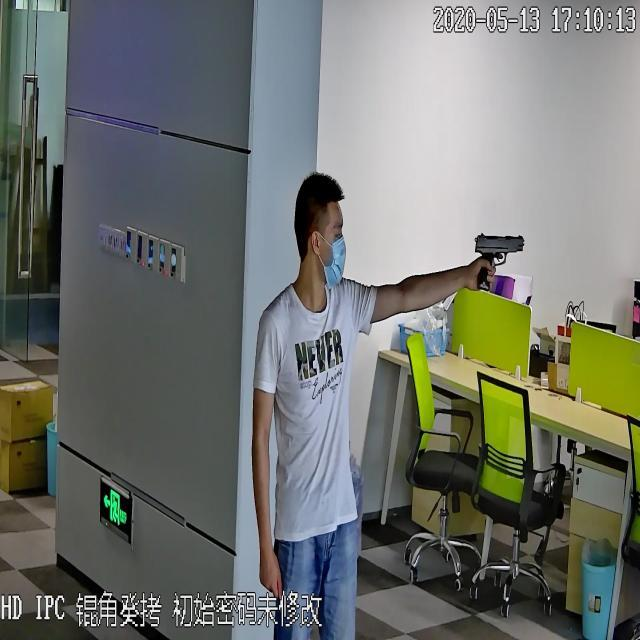gun: (472, 227, 524, 293)
